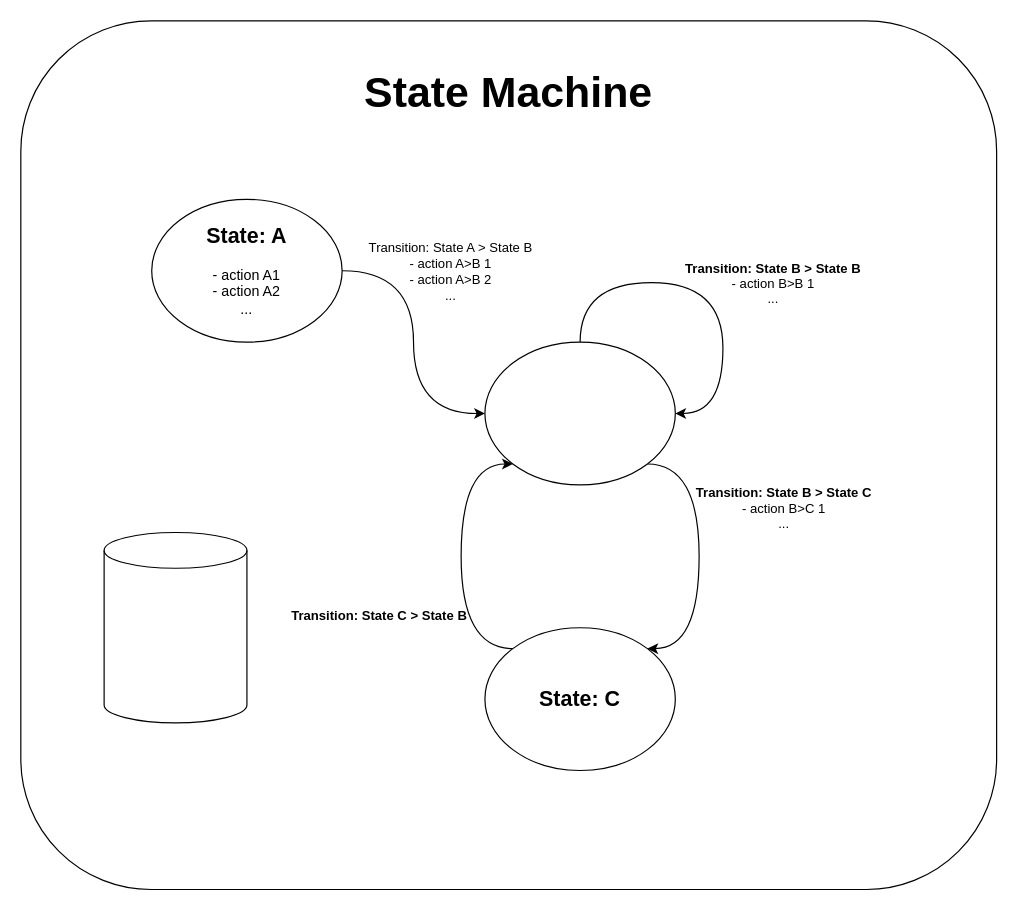
Some shapes in this 1017 by 910 pixel diagram are drawn without their labels. Here are the shapes that lost their labels. From the top down, the centre of each, then its label:
At point (579, 413): "State: B - action B1 - action B2 - action B3 ...".
At point (175, 627): "Context".
